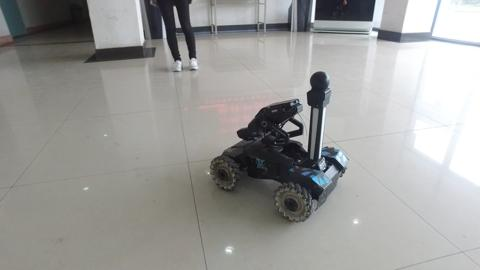chariot: (206, 68, 350, 223)
